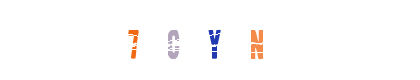7: (139, 0, 219, 80)
C: (170, 0, 250, 80)
N: (176, 0, 256, 80)
Y: (174, 0, 254, 80)
